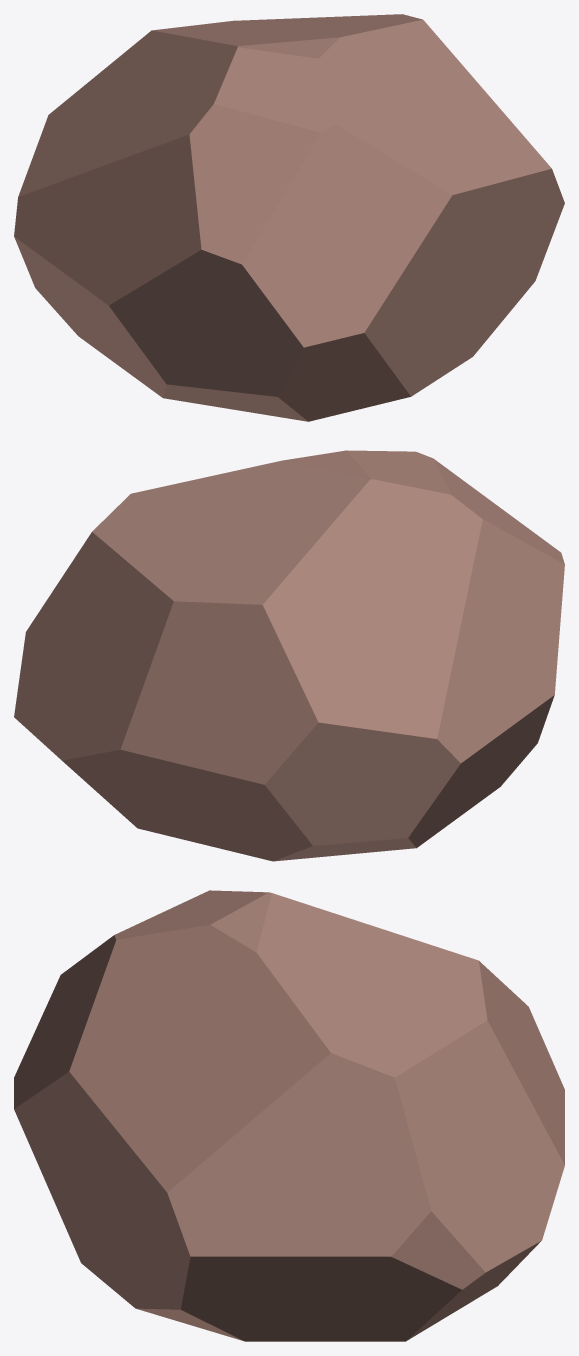
The model's file is ast_prop_rock3.fbx.
3 views of the same model, one above another, from view 1: azimuth 30°, elevation 25°; view 2: azimuth 150°, elevation 25°; view 3: azimuth 270°, elevation 25° (orthographic). The views are drawn at different scales.
Visible parts, largest first — view 1: Pedra; view 2: Pedra; view 3: Pedra.
Part boxes in pixels (box(x1,y1,x2,y2)): Pedra: box(14, 14, 564, 421); Pedra: box(14, 450, 564, 861); Pedra: box(14, 890, 564, 1341).
Bounding box in the file's own units: 4.45 × 4.45 × 2.91.
